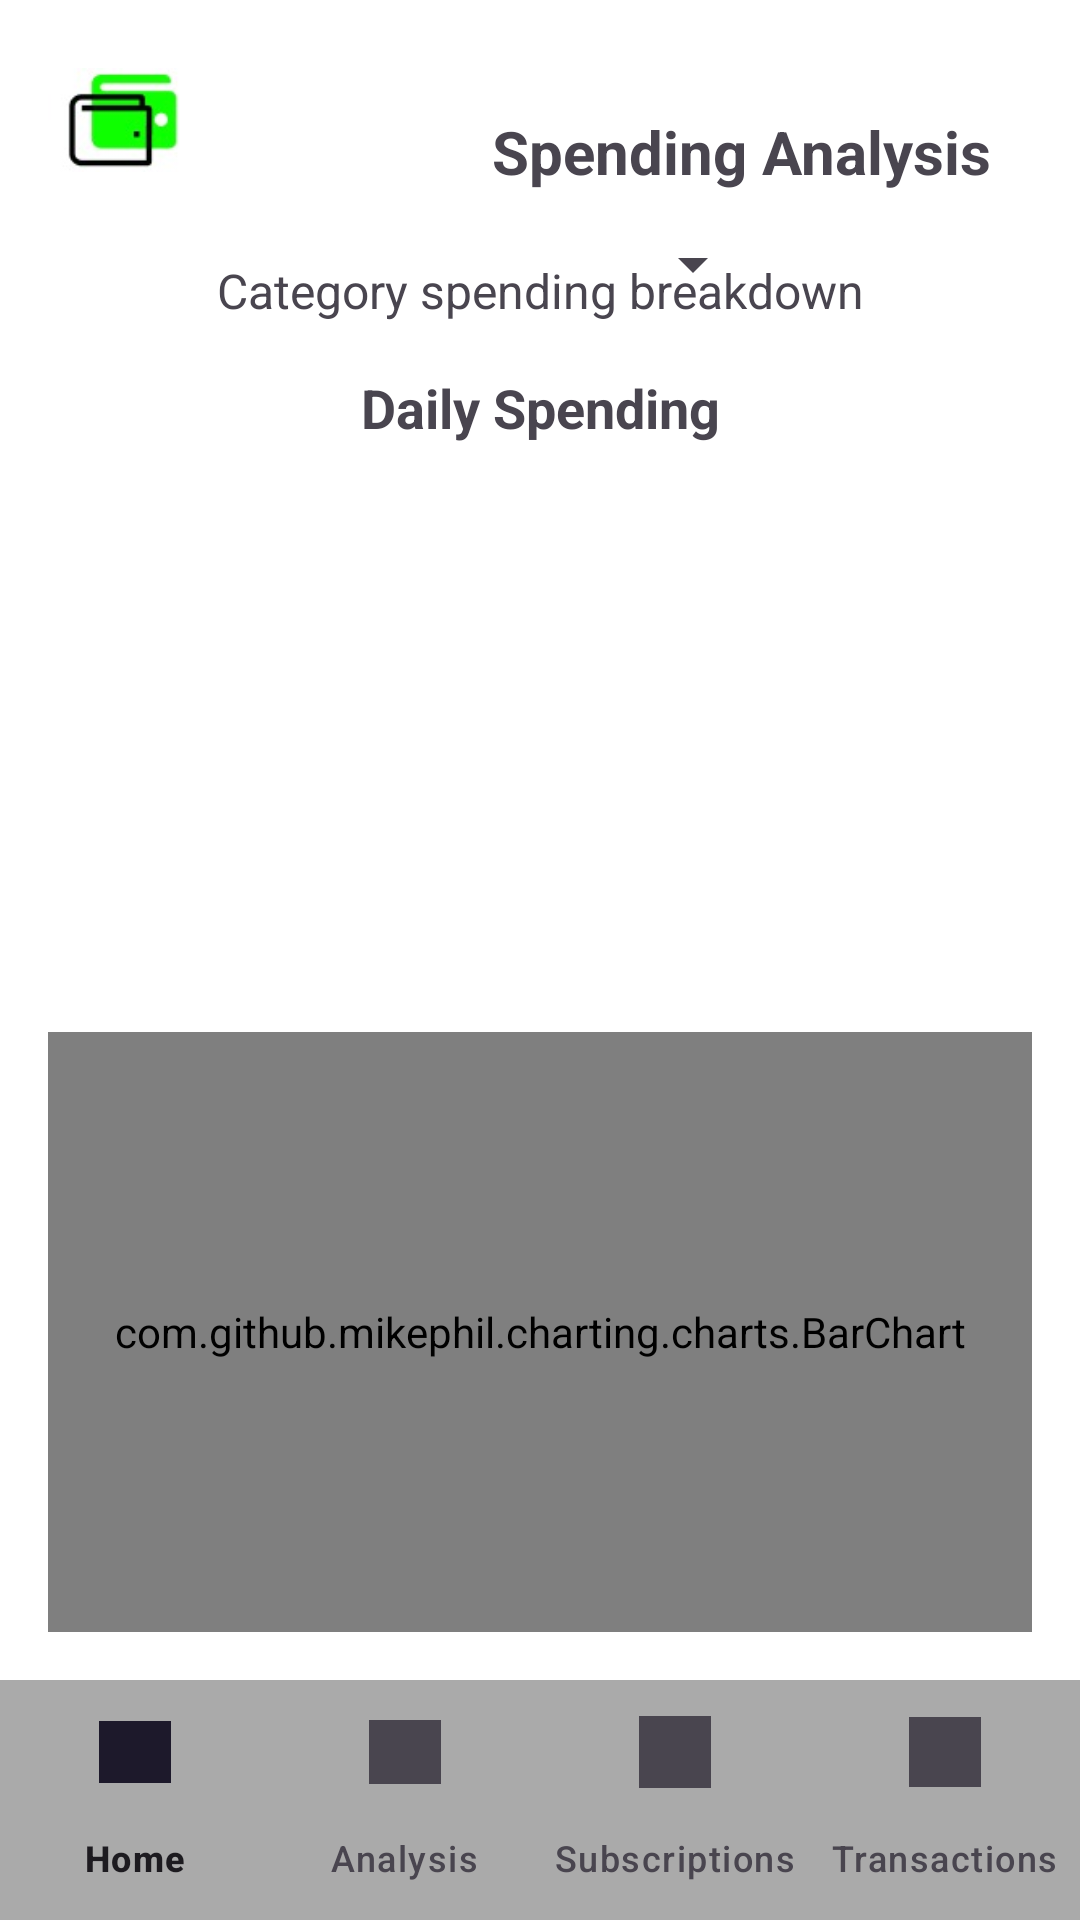

Icon bounding boxes for this 1080x1920 phone screenshot, format (x1, y1, x2, y2):
wallet: (68, 73, 178, 167)
